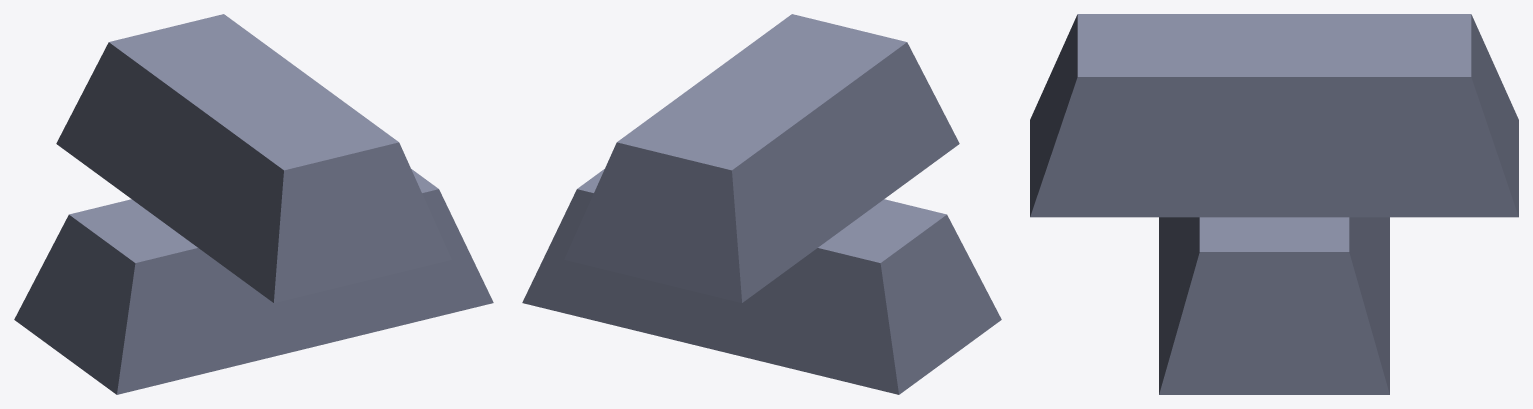
Rendered from item_titanium.glb.
3 views of the same model, side by side, from view 1: azimuth 30°, elevation 25°; view 2: azimuth 150°, elevation 25°; view 3: azimuth 270°, elevation 25° (orthographic). The views are drawn at different scales.
Visible parts, largest first — view 1: item_titanium; view 2: item_titanium; view 3: item_titanium.
Part boxes in pixels (x1=…): item_titanium: x1=14, y1=14, x2=493, y2=394; item_titanium: x1=522, y1=14, x2=1001, y2=394; item_titanium: x1=1030, y1=14, x2=1518, y2=394.
Bounding box in the file's own units: 0.72 × 0.4 × 0.72.
